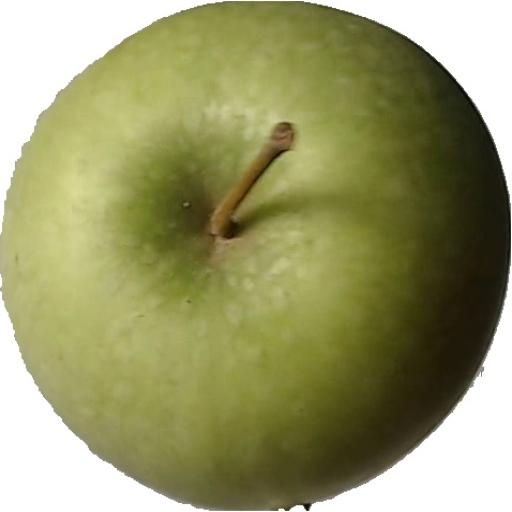apple-unripe: (0, 9, 505, 505)
